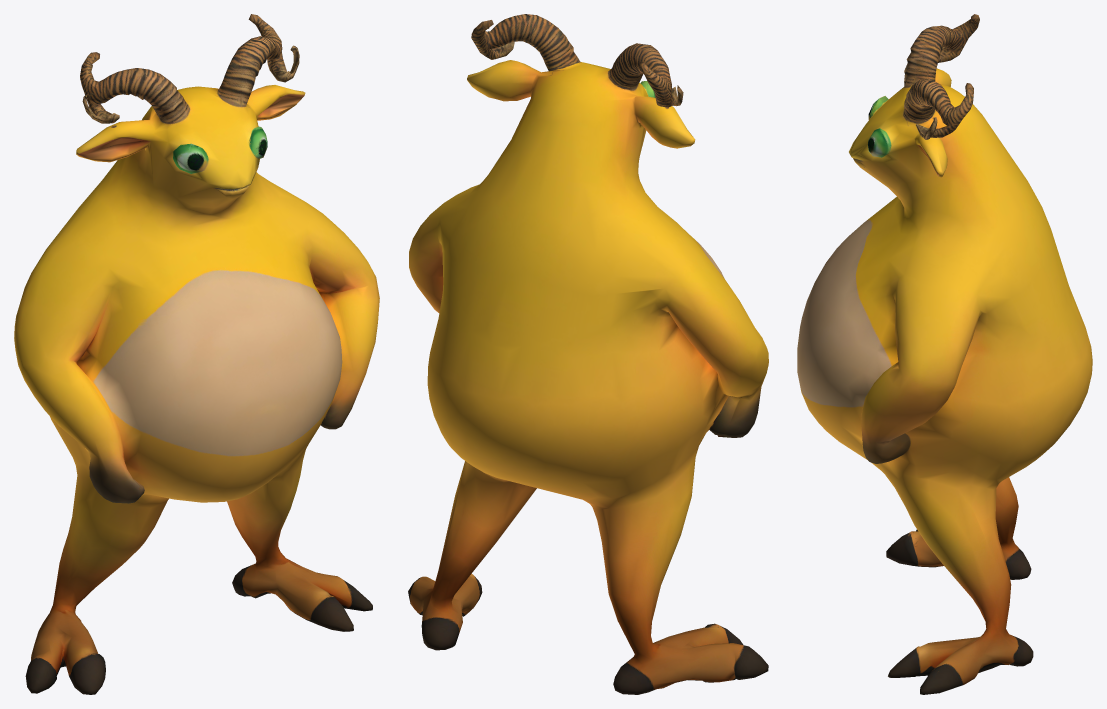
3 views of the same model, side by side, from view 1: azimuth 30°, elevation 25°; view 2: azimuth 150°, elevation 25°; view 3: azimuth 270°, elevation 25° (orthographic). The views are drawn at different scales.
Parts seen in each view (by area): view 1: tripo_node_a8e65118; view 2: tripo_node_a8e65118; view 3: tripo_node_a8e65118.
Part boxes in pixels (x1,y1,x2,y2): tripo_node_a8e65118: (14,14,379,694); tripo_node_a8e65118: (408,14,768,694); tripo_node_a8e65118: (797,14,1092,694).
Size of the model in its own units: 0.5997 by 0.9995 by 0.4718.
Materials: 1 (1 with a texture image).
